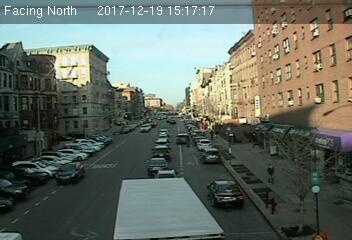car: (207, 180, 244, 207), (54, 162, 85, 183), (153, 167, 180, 180), (150, 145, 171, 159), (147, 158, 167, 172), (201, 148, 221, 162), (176, 132, 190, 145), (158, 128, 168, 137)
